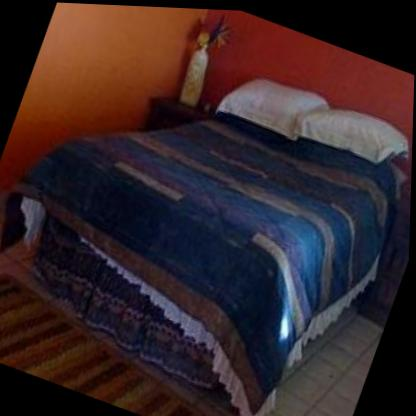Bed: (1, 10, 416, 416)
Carpet: (0, 273, 214, 416)
